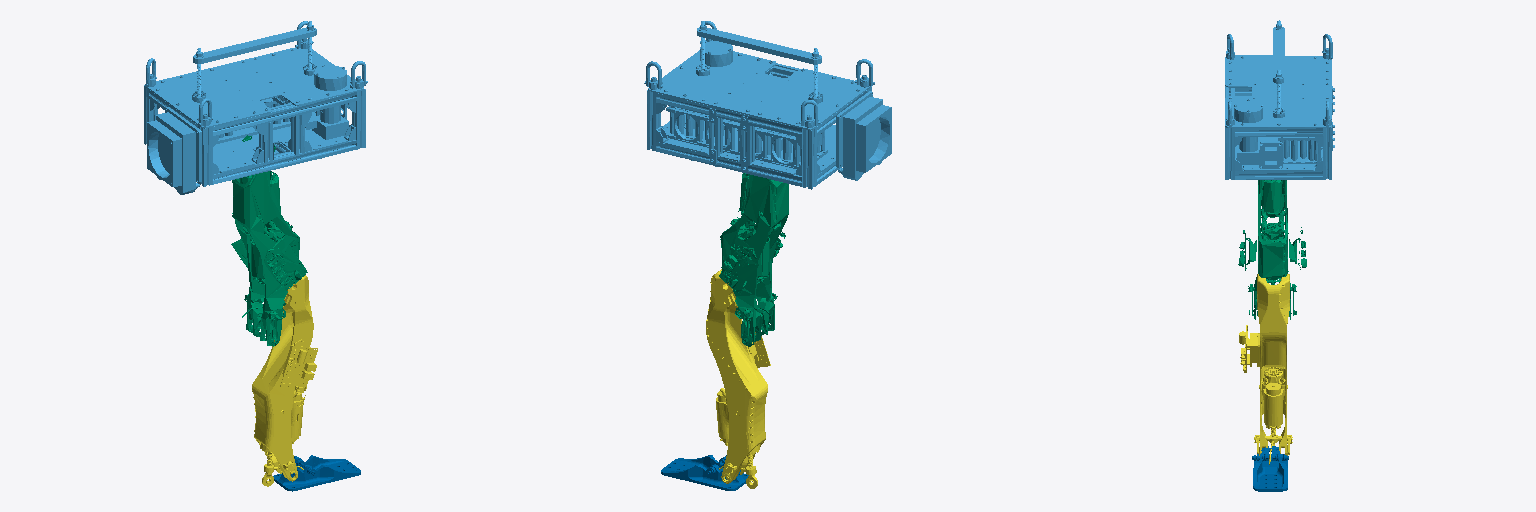
The robot description file, URDF, robot "draco":
<?xml version="1.0" ?>
<robot name="draco" xmlns:xacro="http://ros.org/wiki/xacro">

    <link name="world"/>
    <link name="body">
        <inertial>
            <!--<origin rpy="0 0 0" xyz="0.27 0.139 -0.115"/>-->
            <origin rpy="0 0 0" xyz="-0.0 0.0 -0.0"/>
            <mass value="11.313"/>
            <inertia ixx="0.25" ixy="-0.002" ixz="0.006" iyy="0.268" iyz="0.002" izz="0.114"/>
        </inertial>
        <visual>
            <!--<origin rpy="1.57 0 0" xyz = "-0.27 0.139 -0.115"/>-->
            <origin rpy="1.57 0 0" xyz = "-0.27 0.34 -0.115"/>
            <!--<origin rpy="1.57 0 0" xyz = "-0.0 0.0 -0.0"/>-->
            <geometry>
                <mesh filename="meshes/body_edit.stl" scale="0.001 0.001 0.001"/>
            </geometry>
        </visual>
        <!--<collision>-->
            <!--<origin rpy="1.57 0 0" xyz = "-0.27 0.139 -0.115"/>-->
            <!--<geometry>-->
                <!--<mesh filename="meshes/body.STL" scale="0.001 0.001 0.001"/>-->
            <!--</geometry>-->
        <!--</collision>-->
    </link>

    <joint name="ground_joint" type="floating">
        <origin xyz="0 0 1.4" rpy="0 0 0" />
        <parent link="world" />
        <child link="body" />
    </joint>

    <joint name="bodyPitch" type="continuous">
        <origin rpy="0.0 0.0 0.0" xyz="0.007 -0.007 -0.115"/>
        <!--<origin rpy="0.0 0.0 0.0" xyz="0.007 -0.115 0.007"/>-->
        <axis xyz="0 1 0"/>
        <parent link="body"/>
        <child link="upperLeg"/>
    </joint>

    <link name="upperLeg">
        <inertial>
            <origin rpy="0 0 0" xyz="0.0000 0 -0.0000"/>
            <!--<origin rpy="0 0 0" xyz="0.0061 0 -0.0"/>-->
            <mass value="5.4818"/>
            <inertia ixx="0.0777" ixy="-0.0001" ixz="-0.0005" iyy="0.0761" iyz="0.0084" izz="0.0061"/>
        </inertial>
        <visual>
            <origin rpy="0 3.14 -1.57" xyz="-0.0000 -0.000 -0.00"/>
            <!--<origin rpy="0 3.14 -1.57" xyz="-0.0005 -0.000 -0.00"/>-->
            <!--<origin rpy="0 0 0" xyz="0.0061 0 -0.2473"/>-->
            <geometry>
                <mesh filename="meshes/upperLeg_edit.stl" scale="0.001 0.001 0.001"/>
            </geometry>
        </visual>
        <!--<collision>-->
            <!--<origin rpy="0 3.14 -1.57" xyz="-0.0735 -0.087 0.03"/>-->
            <!--<geometry>-->
                <!--<mesh filename="meshes/upperLeg.STL" scale="0.001 0.001 0.001"/>-->
            <!--</geometry>-->
        <!--</collision>-->
    </link>

    <joint name="kneePitch" type="continuous">
        <!--<origin rpy="0.0 0.0 0.0" xyz="0 -0.00 -0.494"/>-->
        <!--<origin rpy="0.0 0.0 0.0" xyz="0.148 0.038 -0.54"/>-->
        <origin rpy="0.0 0.0 0.0" xyz="0.188 0.038 -0.49"/>
        <axis xyz="0 1 0"/>
        <parent link="upperLeg"/>
        <child link="lowerLeg"/>
    </joint>

    <link name="lowerLeg">
        <inertial>
            <origin rpy="0 0 0" xyz="-0.0000 -0.00 -0.000"/>
            <!--<origin rpy="0 0 0" xyz="-0.0038 -0.0022 -0.2647"/>-->
            <mass value="3.7701"/>
            <inertia ixx="0.0777" ixy="-0.0001" ixz="-0.0005" iyy="0.0761" iyz="0.0084" izz="0.0061"/>
        </inertial>
        <visual>
            <!--<origin rpy="0 0 -1.57" xyz="-0.075 0.05 -0.5130"/>-->
            <origin rpy="0 0 -1.57" xyz="-0.068 -0.00 -0.2647"/>
            <!--<origin rpy="0 0 -1.57" xyz="-0.075 0.0 -0.00"/>-->
            <geometry>
                <mesh filename="meshes/lowerLeg_edit.stl" scale="0.001 0.001 0.001"/>
            </geometry>
        </visual>
        <!--<collision>-->
            <!--<origin rpy="0 0 -1.57" xyz="-0.075 0.05 -0.513"/>-->
            <!--<geometry>-->
                <!--<mesh filename="meshes/lowerLeg.STL" scale="0.001 0.001 0.001"/>-->
            <!--</geometry>-->
        <!--</collision>-->
    </link>

    <joint name="ankle" type="continuous">
        <!--<origin rpy="0.0 0.0 0.0" xyz="0 0 -0.15"/>-->
        <origin rpy="0.0 0.0 0.0" xyz="0 0.0 -0.36"/>
        <axis xyz="0 1 0"/>
        <parent link="lowerLeg"/>
        <child link="foot"/>
    </joint>

    <link name="foot">
        <inertial>
            <!--<origin rpy="0 0 0" xyz="0.0183 0 -0.0232"/>-->
            <origin rpy="0 0 0" xyz="0.0 0 -0.0"/>
            <mass value="0.6817573"/>
            <inertia ixx="0.001766" ixy="-0.0000003" ixz="0.0000006" iyy="0.0020957" iyz="-0.0001134" izz="0.0004916"/>
        </inertial>
        <visual>
            <origin rpy="1.57 0 1.57" xyz="-0.0183 -0.0 -0.0232"/>
            <geometry>
                <mesh filename="meshes/foot_edit.stl" scale="0.001 0.001 0.001"/>
            </geometry>
        </visual>
        <collision>
            <!--<origin rpy="1.57 0 1.57" xyz="-0.07 -0.05 -0.03"/>-->
            <!--<origin rpy="1.57 0 1.57" xyz="-0.0061 -0.0 -0.24"/>-->
            <origin rpy="1.57 0 1.57" xyz="-0.0183 -0.0 -0.0232"/>
            <geometry>
                <mesh filename="meshes/foot_edit.stl" scale="0.001 0.001 0.001"/>
            </geometry>
        </collision>
    </link>

<!-- Foot Virtual Contact Point -->
   <!--<link name="FootOutFront">-->
    <!--<inertial>-->
      <!--<mass value="0.000000000001"/>-->
      <!--<origin rpy="0 0 0" xyz="0 0 0"/>-->
      <!--<inertia ixx="1.0e-12" ixy="0.0" ixz="0.0" iyy="1.0e-12" iyz="0.0" izz="1.0e-12"/>-->
    <!--</inertial>-->
  <!--</link>-->
  <!--<joint name="foot_Offset1" type="fixed">-->
    <!--<origin rpy="0.0 0.0 0.0" xyz="0.135 0.04 -0.034"/>-->
    <!--<axis xyz="0 0 1"/>-->
    <!--<parent link="foot"/>-->
    <!--<child link="FootOutFront"/>-->
  <!--</joint>-->

  <!--<link name="FootOutBack">-->
    <!--<inertial>-->
      <!--<mass value="0.000000000001"/>-->
      <!--<origin rpy="0 0 0" xyz="0 0 0"/>-->
      <!--<inertia ixx="1.0e-12" ixy="0.0" ixz="0.0" iyy="1.0e-12" iyz="0.0" izz="1.0e-12"/>-->
    <!--</inertial>-->
  <!--</link>-->
  <!--<joint name="foot_Offset2" type="fixed">-->
    <!--<origin rpy="0.0 0.0 0.0" xyz="-0.059 0.04 -0.034"/>-->
    <!--<axis xyz="0 0 1"/>-->
    <!--<parent link="foot"/>-->
    <!--<child link="FootOutBack"/>-->
  <!--</joint>-->

  <!--<link name="FootInBack">-->
    <!--<inertial>-->
      <!--<mass value="0.000000000001"/>-->
      <!--<origin rpy="0 0 0" xyz="0 0 0"/>-->
      <!--<inertia ixx="1.0e-12" ixy="0.0" ixz="0.0" iyy="1.0e-12" iyz="0.0" izz="1.0e-12"/>-->
    <!--</inertial>-->
  <!--</link>-->
  <!--<joint name="foot_Offset3" type="fixed">-->
    <!--<origin rpy="0.0 0.0 0.0" xyz="-0.059 -0.04 -0.034"/>-->
    <!--<axis xyz="0 0 1"/>-->
    <!--<parent link="foot"/>-->
    <!--<child link="FootInBack"/>-->
  <!--</joint>-->

  <!--<link name="FootInFront">-->
    <!--<inertial>-->
      <!--<mass value="0.000000000001"/>-->
      <!--<origin rpy="0 0 0" xyz="0 0 0"/>-->
      <!--<inertia ixx="1.0e-12" ixy="0.0" ixz="0.0" iyy="1.0e-12" iyz="0.0" izz="1.0e-12"/>-->
    <!--</inertial>-->
  <!--</link>-->
  <!--<joint name="foot_Offset4" type="fixed">-->
    <!--<origin rpy="0.0 0.0 0.0" xyz="0.135 -0.04 -0.034"/>-->
    <!--<axis xyz="0 0 1"/>-->
    <!--<parent link="foot"/>-->
    <!--<child link="FootInFront"/>-->
  <!--</joint>-->

</robot>

--- Render facts (derived) ---
3 views of the same robot in one strip: view 1: azimuth 30°, elevation 25°; view 2: azimuth 150°, elevation 25°; view 3: azimuth 270°, elevation 25° (orthographic).
Robot: draco — 5 links, 4 joints (3 continuous, 1 floating); root link world; default pose: all joints at 0.
Links seen in each view (by area): view 1: body, upperLeg, lowerLeg, foot; view 2: body, lowerLeg, upperLeg, foot; view 3: body, lowerLeg, upperLeg, foot.
Boxes of the visible links, box(x1,y1,x2,y2) form: body: box(144, 21, 367, 194); upperLeg: box(231, 135, 307, 346); lowerLeg: box(252, 275, 317, 486); foot: box(273, 455, 360, 491); body: box(644, 21, 891, 189); lowerLeg: box(706, 269, 770, 488); upperLeg: box(719, 173, 788, 346); foot: box(661, 455, 748, 490); body: box(1225, 20, 1334, 179); lowerLeg: box(1239, 274, 1292, 464); upperLeg: box(1238, 180, 1306, 319); foot: box(1252, 446, 1288, 491).
Bounding box of the posed robot: 0.5424 × 0.2859 × 1.17 m (x, y, z).
Meshes: 4 distinct files referenced, 4 mesh visuals loaded (4 binary STL).
